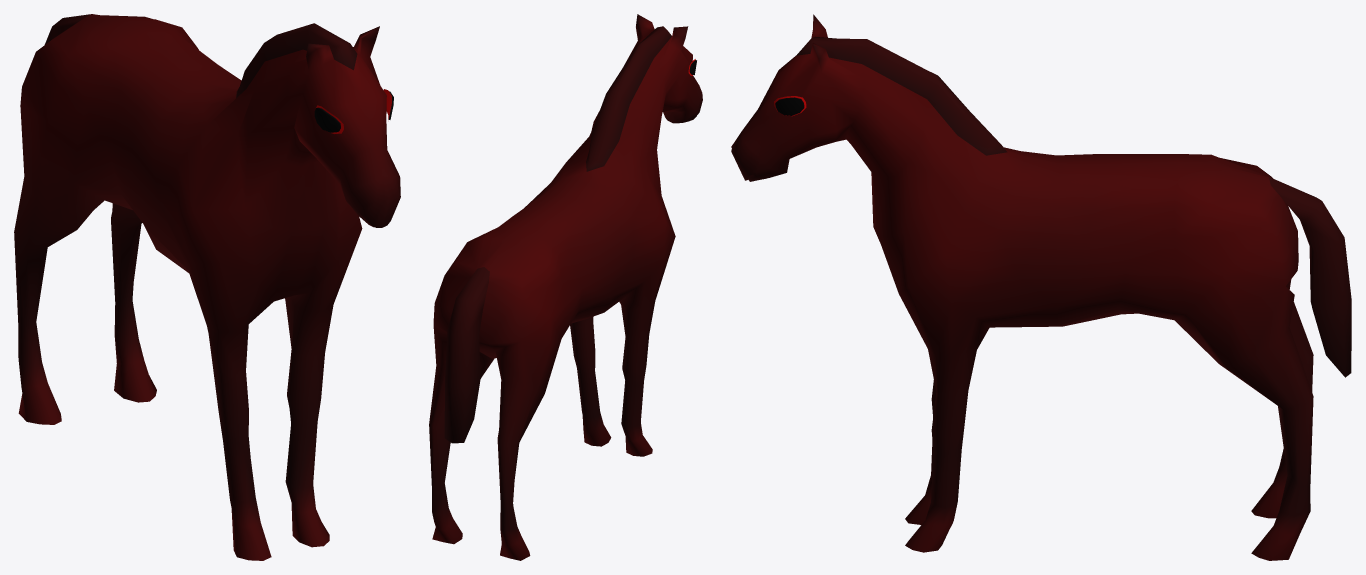
The model's file is Animals_BlackHorse.fbx.
3 renders of one model, left to right at view 1: azimuth 30°, elevation 25°; view 2: azimuth 150°, elevation 25°; view 3: azimuth 270°, elevation 25°, orthographic. The views are drawn at different scales.
Visible parts, largest first — view 1: base; view 2: base; view 3: base.
Part boxes in pixels (x1,y1,x2,y2): base: (14,14,400,560); base: (429,14,702,560); base: (731,14,1351,560).
Bounding box in the file's own units: 56.05 × 191 × 214.
